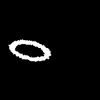chain: (9, 40, 50, 61)
